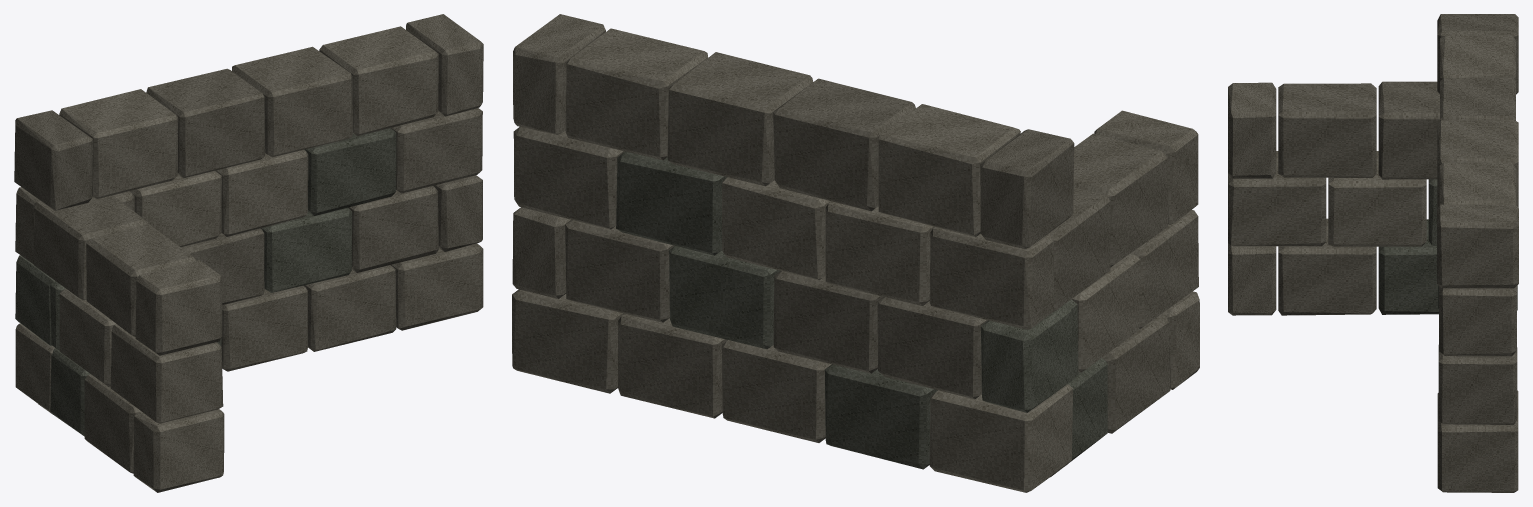
The model's file is env_ruin_walls_08_short_return.glb.
3 views of the same model, side by side, from view 1: azimuth 30°, elevation 25°; view 2: azimuth 150°, elevation 25°; view 3: azimuth 270°, elevation 25° (orthographic). The views are drawn at different scales.
Bounding box in the file's own units: 2 × 1.19 × 1.16.
Materials: 1 (1 with a texture image).
